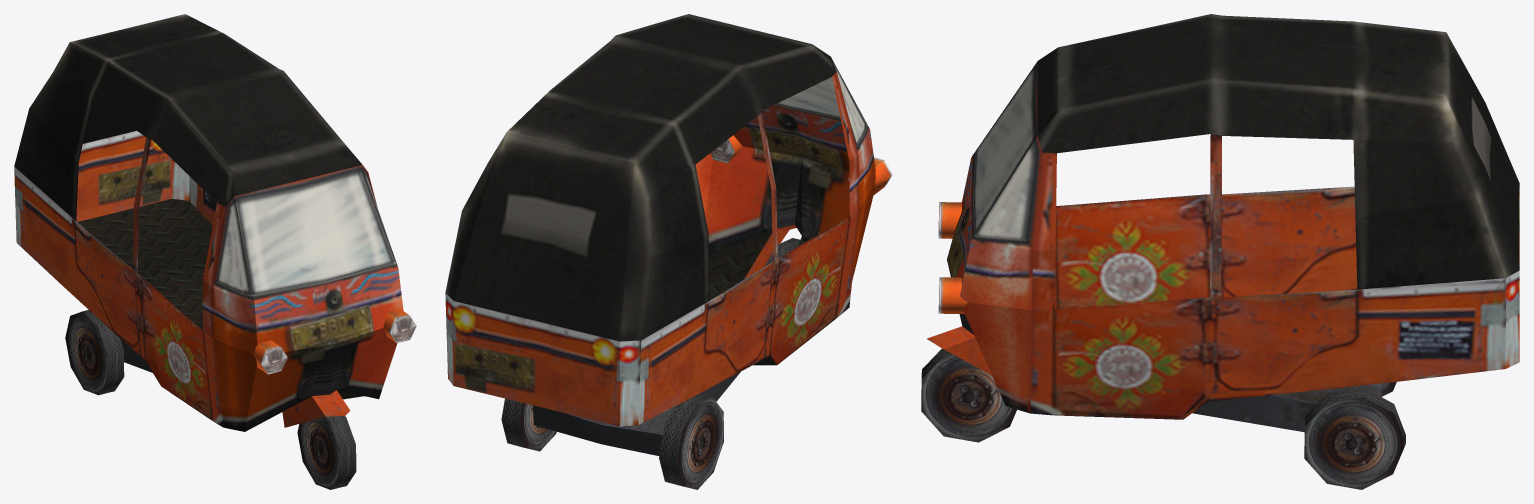
Rendered from taxi2.glb.
3 views of the same model, side by side, from view 1: azimuth 30°, elevation 25°; view 2: azimuth 150°, elevation 25°; view 3: azimuth 270°, elevation 25° (orthographic). The views are drawn at different scales.
Visible parts, largest first — view 1: bajaj_07 - Default_0; view 2: bajaj_07 - Default_0; view 3: bajaj_07 - Default_0.
Boxes of the visible parts, box(x1,y1,x2,y2) form: bajaj_07 - Default_0: box(14, 14, 416, 489); bajaj_07 - Default_0: box(445, 14, 892, 489); bajaj_07 - Default_0: box(921, 14, 1519, 489).
Size of the model in its own units: 0.3479 by 0.6223 by 0.8524.
1 material, 1 textured.
